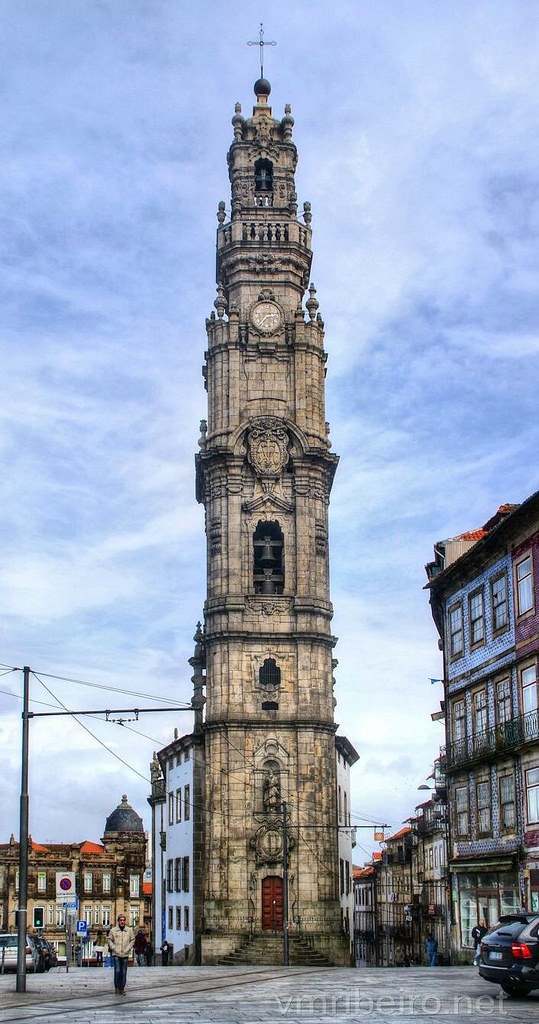clerigos: (186, 20, 346, 936)
